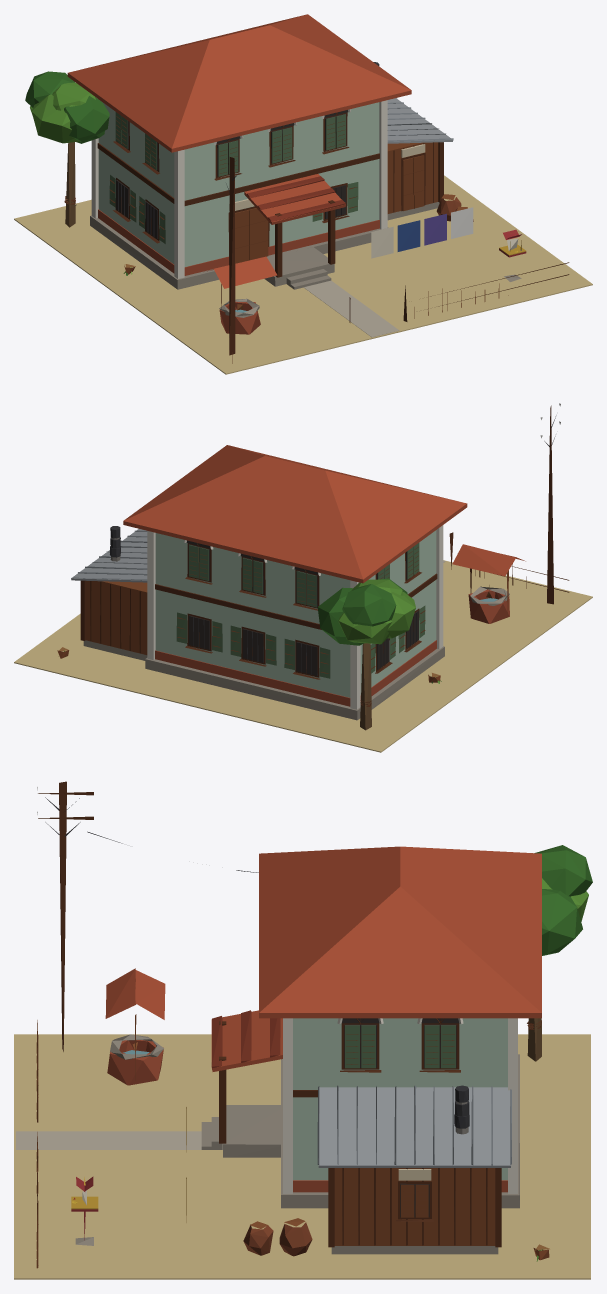
The model's file is home_3.glb.
3 views of the same model, one above another, from view 1: azimuth 30°, elevation 25°; view 2: azimuth 150°, elevation 25°; view 3: azimuth 270°, elevation 25° (orthographic). The views are drawn at different scales.
Visible parts, largest first — view 1: body, windows; view 2: body, windows; view 3: body, windows.
Boxes of the visible parts, x1,y1,x2,y2 form: body: (14,14,592,374); windows: (116,110,348,239); body: (14,403,592,752); windows: (186,540,418,675); body: (14,781,592,1279); windows: (342,1018,458,1217).
Size of the model in its own units: 16.06 by 8.49 by 15.96.
